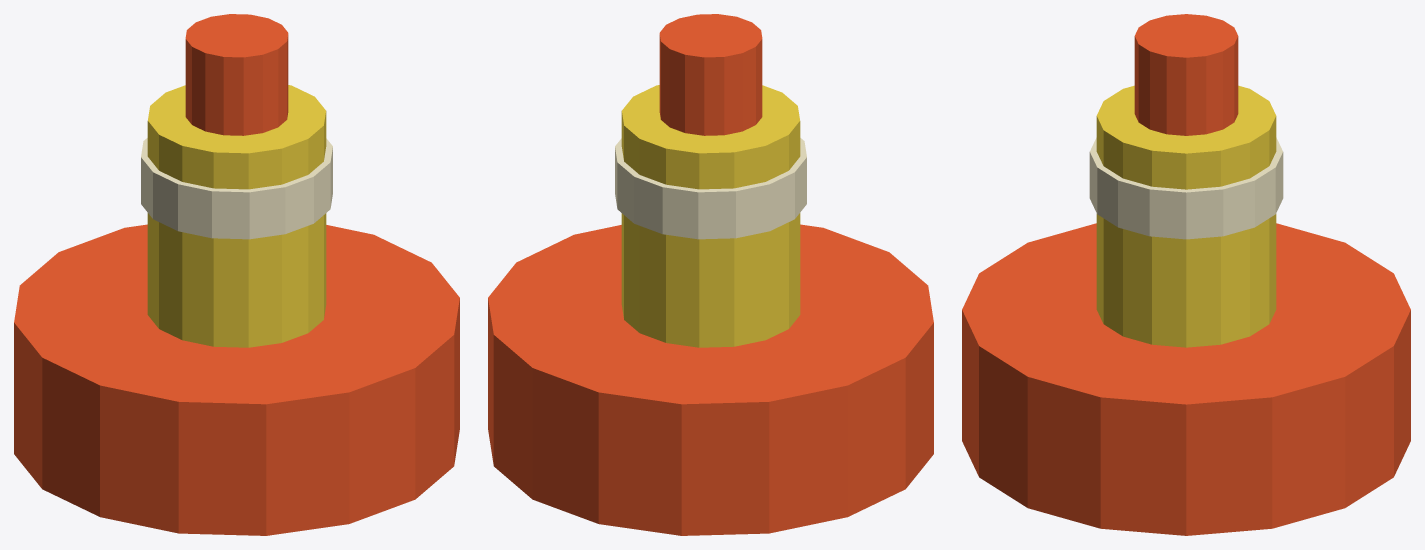
Rendered from water-buoy.glb.
3 renders of one model, left to right at view 1: azimuth 30°, elevation 25°; view 2: azimuth 150°, elevation 25°; view 3: azimuth 270°, elevation 25°, orthographic.
Visible parts, largest first — view 1: Buoy float, Buoy tower, Buoy beacon, Buoy stripe; view 2: Buoy float, Buoy tower, Buoy beacon, Buoy stripe; view 3: Buoy float, Buoy tower, Buoy beacon, Buoy stripe.
Part boxes in pixels (box(x1,y1,x2,y2)): Buoy float: box(14, 224, 459, 535); Buoy tower: box(147, 85, 326, 347); Buoy beacon: box(185, 14, 288, 135); Buoy stripe: box(141, 138, 332, 239); Buoy float: box(488, 224, 933, 535); Buoy tower: box(621, 85, 800, 347); Buoy beacon: box(659, 14, 762, 135); Buoy stripe: box(615, 138, 806, 239); Buoy float: box(962, 223, 1410, 535); Buoy tower: box(1096, 85, 1276, 347); Buoy beacon: box(1134, 14, 1238, 135); Buoy stripe: box(1089, 137, 1283, 239).
Bounding box in the file's own units: 1.3 × 1.3 × 1.3.
